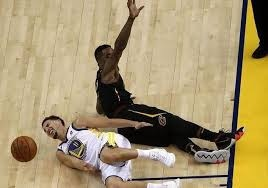falling: (36, 104, 182, 187)
